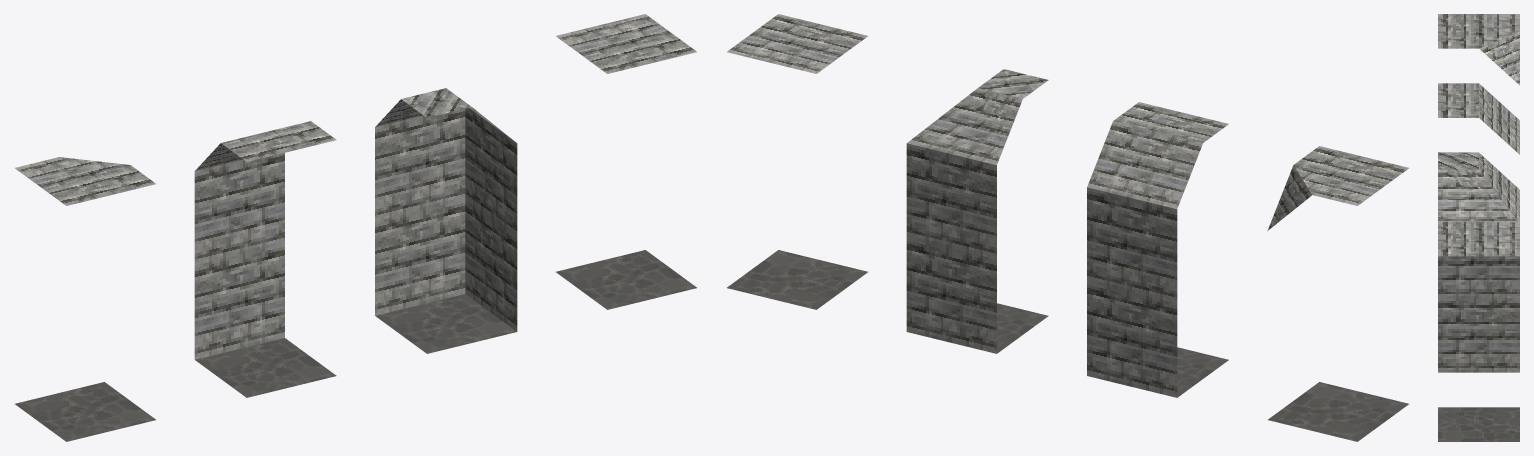
File: tileset.glb
3 views of the same model, side by side, from view 1: azimuth 30°, elevation 25°; view 2: azimuth 150°, elevation 25°; view 3: azimuth 270°, elevation 25° (orthographic). The views are drawn at different scales.
Visible parts, largest first — view 1: corner-in-col, wall-col, roof-col, corner-col; view 2: wall-col, corner-in-col, corner-col, roof-col; view 3: corner-in-col, roof-col, corner-col, wall-col.
Boxes of the visible parts, <box> form: corner-in-col: <box>375,88,517,353</box>; wall-col: <box>194,121,336,397</box>; roof-col: <box>556,14,696,309</box>; corner-col: <box>15,157,155,441</box>; wall-col: <box>1087,102,1228,397</box>; corner-in-col: <box>906,69,1048,353</box>; corner-col: <box>1267,146,1408,441</box>; roof-col: <box>727,14,867,309</box>; corner-in-col: <box>1438,152,1519,372</box>; roof-col: <box>1438,221,1519,441</box>; corner-col: <box>1438,14,1519,85</box>; wall-col: <box>1438,83,1519,154</box>.
Bounding box in the file's own units: 7 × 2.5 × 1.
1 material, 1 textured.
